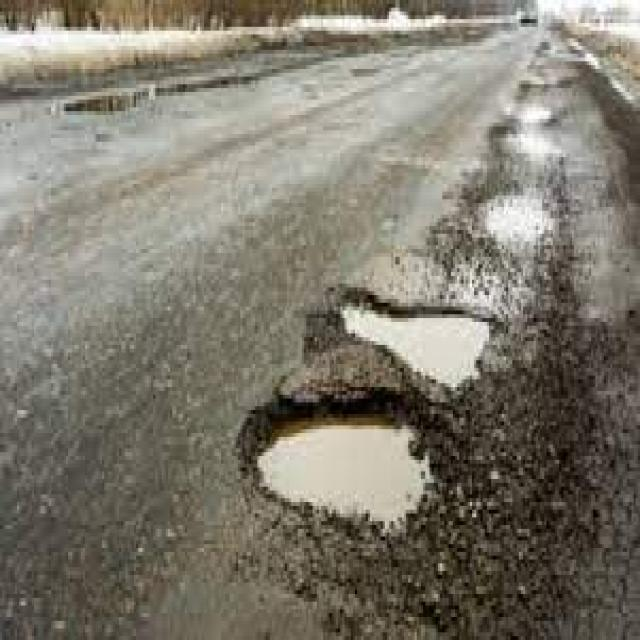potholes: (228, 364, 448, 538), (308, 260, 510, 392)
